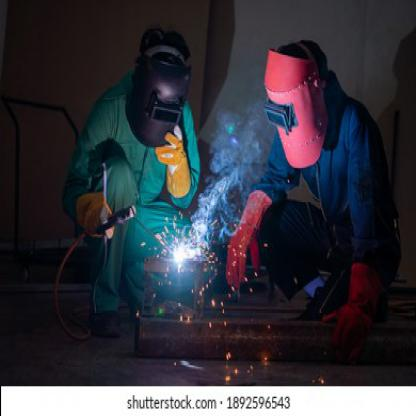with_gloves: (322, 260, 382, 360), (225, 189, 272, 288), (155, 123, 192, 199), (77, 192, 115, 240)
